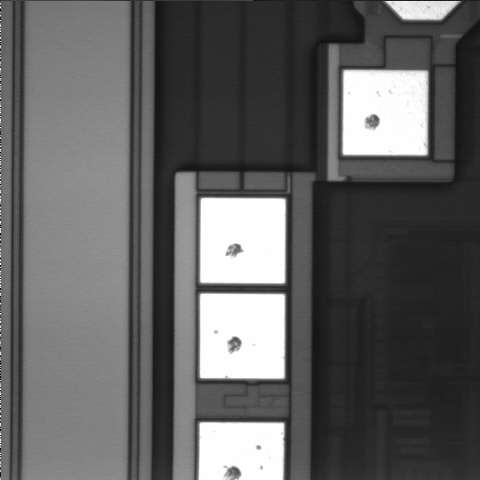pad: (343, 70, 428, 155), (200, 198, 285, 283), (200, 294, 285, 379)
